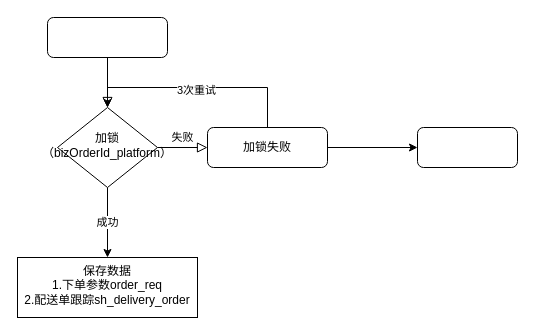
This 535x335 diagram has some shape labels left out. The box of each missing label's shape, as (x1, y1, x2, y2) in pixels:
开始: (46, 16, 168, 58)
结束 （打印异常：系统获取锁异常 ）: (416, 126, 518, 168)
